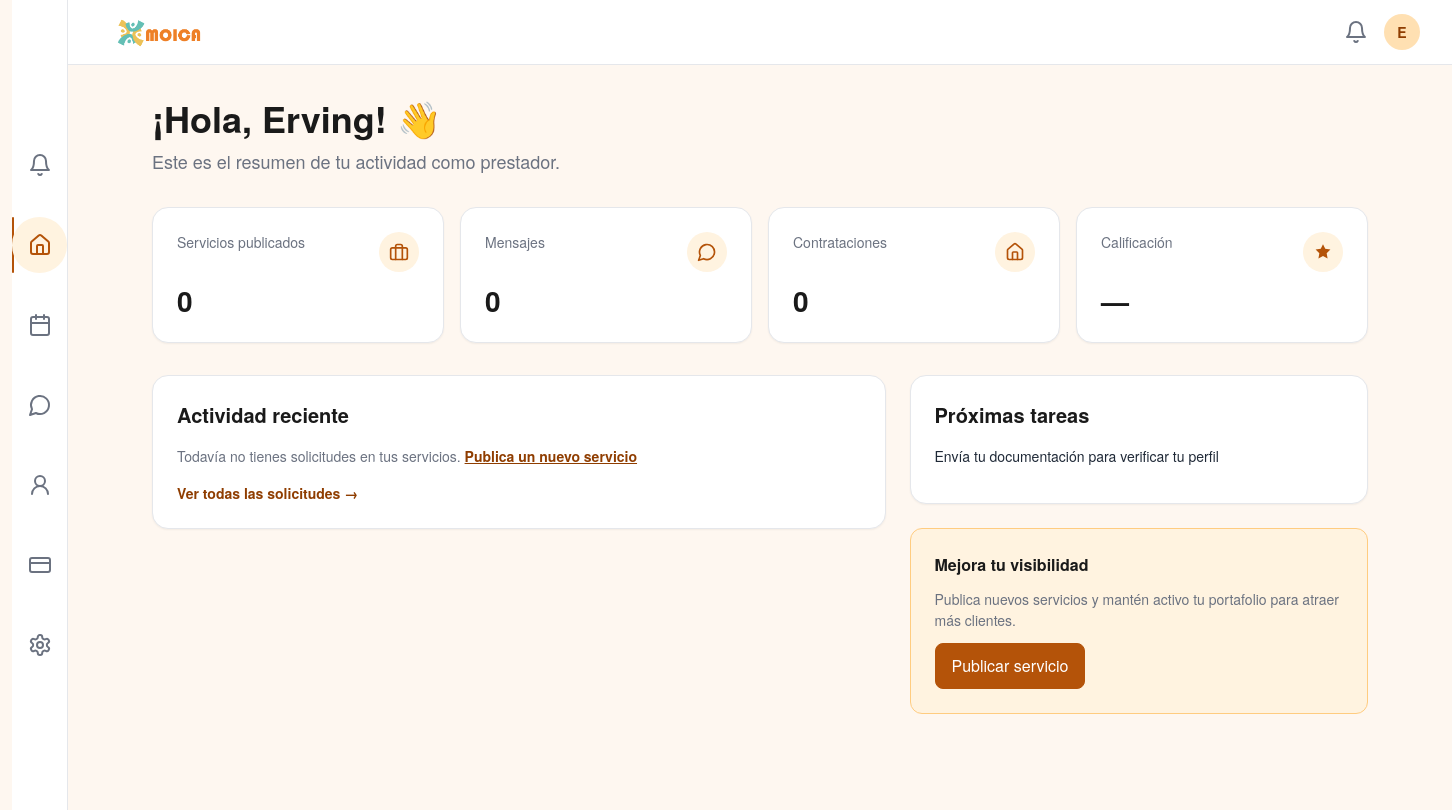
Test: Panel de usuario › avisa fuera del menú cuando el cierre de sesión falla
Click the button named "Cuenta de Erving Miranda": click(1402, 32) [1384, 14, 1420, 50]
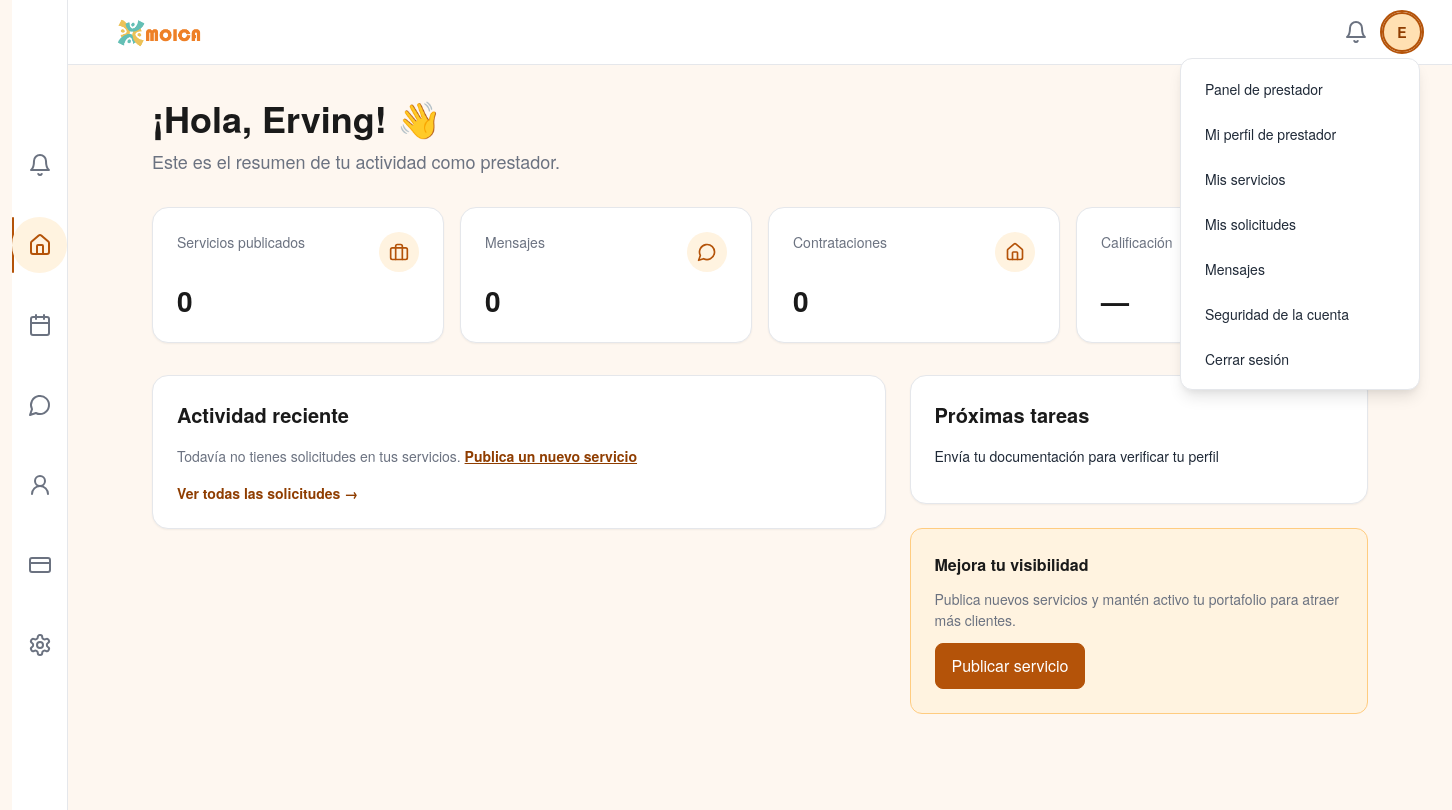
Click the button "Cerrar sesión": click(1300, 359) [1189, 337, 1411, 381]
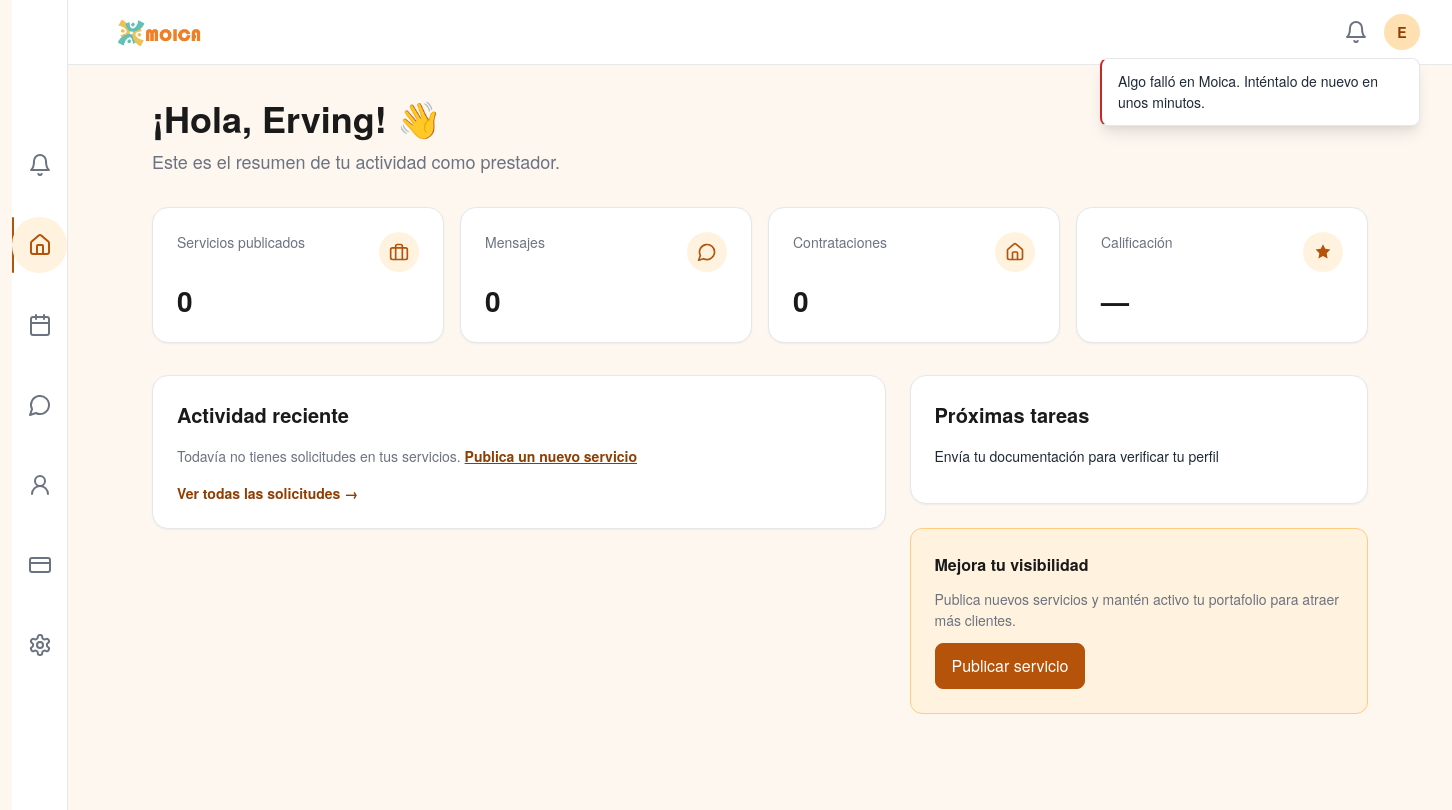
expect the heading "¡Hola, Erving! 👋" is shown: met, box [152, 92, 442, 144]
expect the message reads "Algo falló en Moica. Inténtalo de nuevo en unos minutos.": met, box [1118, 71, 1378, 112]
expect the menu is gone: met
